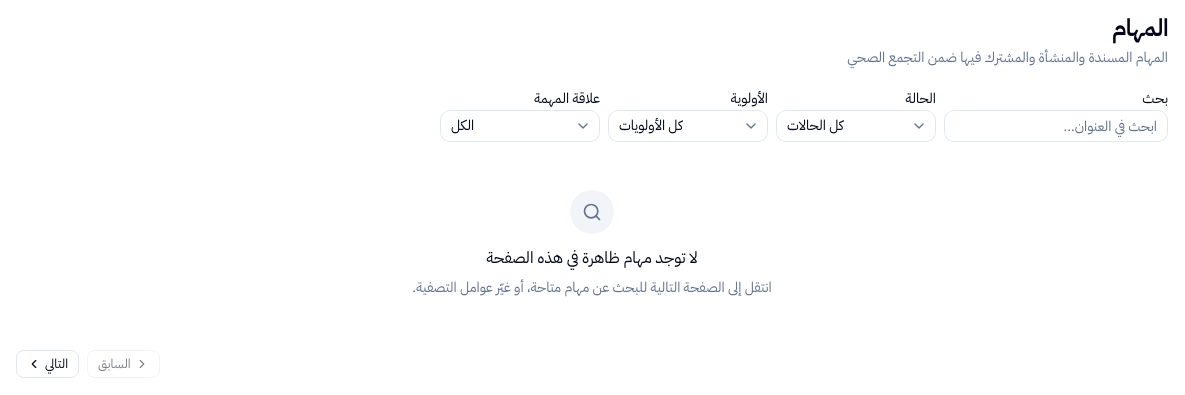
TasksScreen › continues past an authorization-empty page when the collection supplies a next cursor
Expected: the text "لا توجد مهام ظاهرة في هذه الصفحة" is shown, [486,246,698,270]
Click the button "التالي" at (48, 364), box [16,350,79,378]
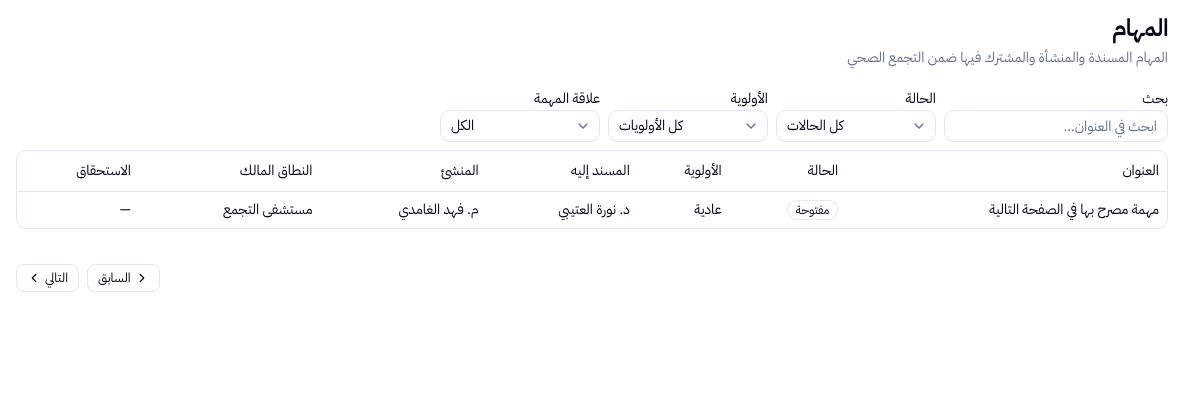
Result: the text "مهمة مصرح بها في الصفحة التالية" is shown at [989,198,1159,220]
